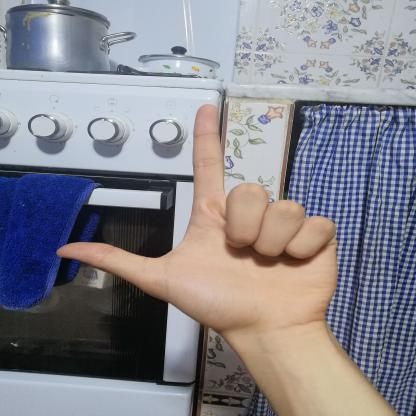LAAM: (32, 93, 354, 351)
